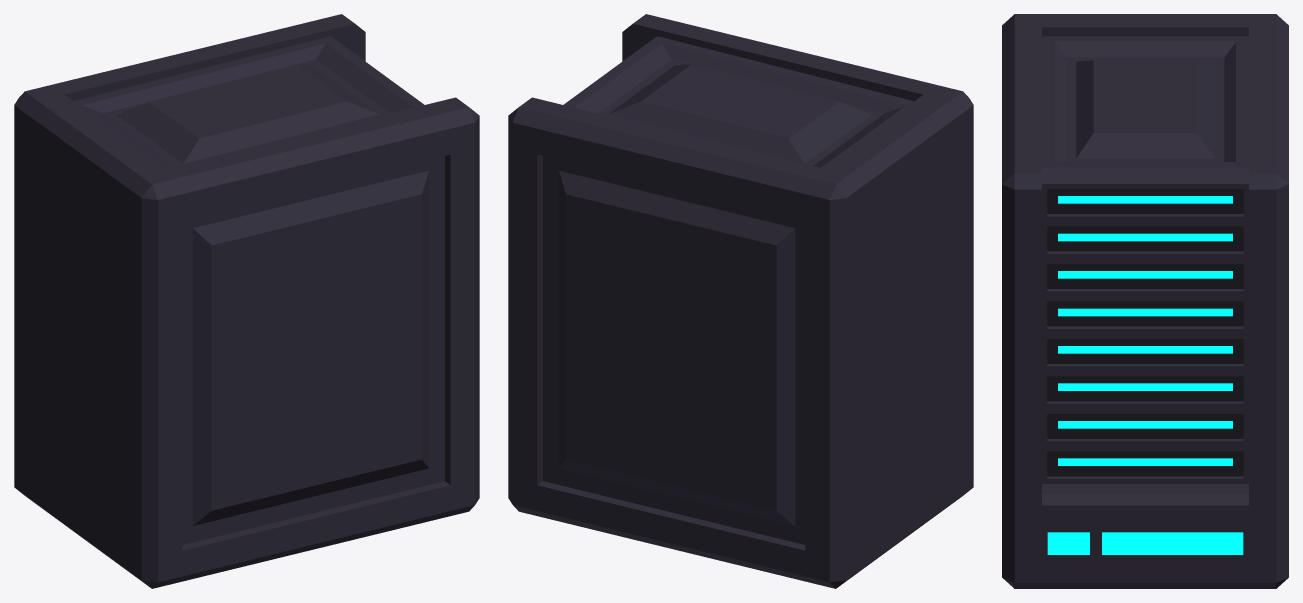
The model's file is SM_Data_Unit.fbx.
3 renders of one model, left to right at view 1: azimuth 30°, elevation 25°; view 2: azimuth 150°, elevation 25°; view 3: azimuth 270°, elevation 25°, orthographic. The views are drawn at different scales.
Parts seen in each view (by area): view 1: SM_Data_Unit; view 2: SM_Data_Unit; view 3: SM_Data_Unit.
Boxes of the visible parts, box(x1,y1,x2,y2) form: SM_Data_Unit: box(14, 14, 479, 588); SM_Data_Unit: box(508, 14, 973, 588); SM_Data_Unit: box(1002, 14, 1288, 588).
Bounding box in the file's own units: 48.23 × 55.12 × 34.45.
